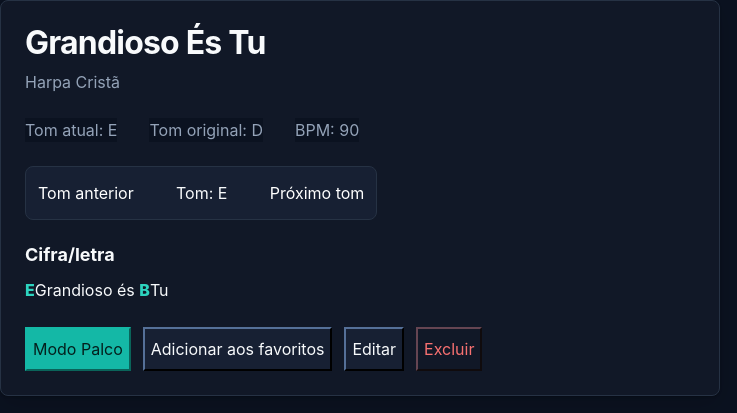
Test: SongDetailPage › transposes the song and updates the displayed key and lyrics
What coordinates should you click on to do the following:
click the button "Próximo tom"
I would click on:
 (317, 193)
Its box is [262,171,372,215].
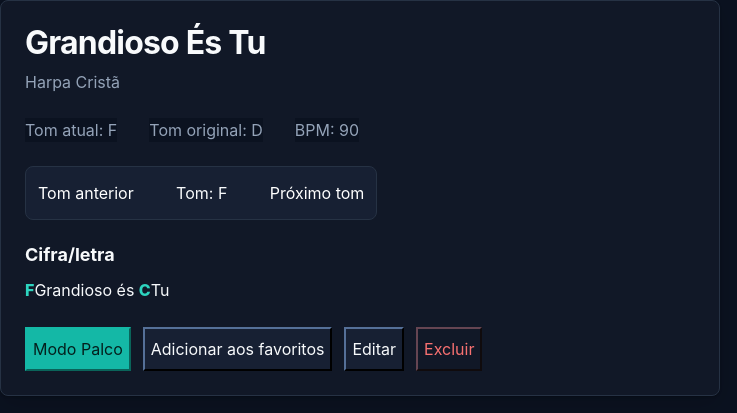
Result: the text "Tom atual: F" is shown at [25,118,117,142]
Result: the element named "Cifra e letra" reads "FGrandioso és CTu" at [25,280,169,300]
